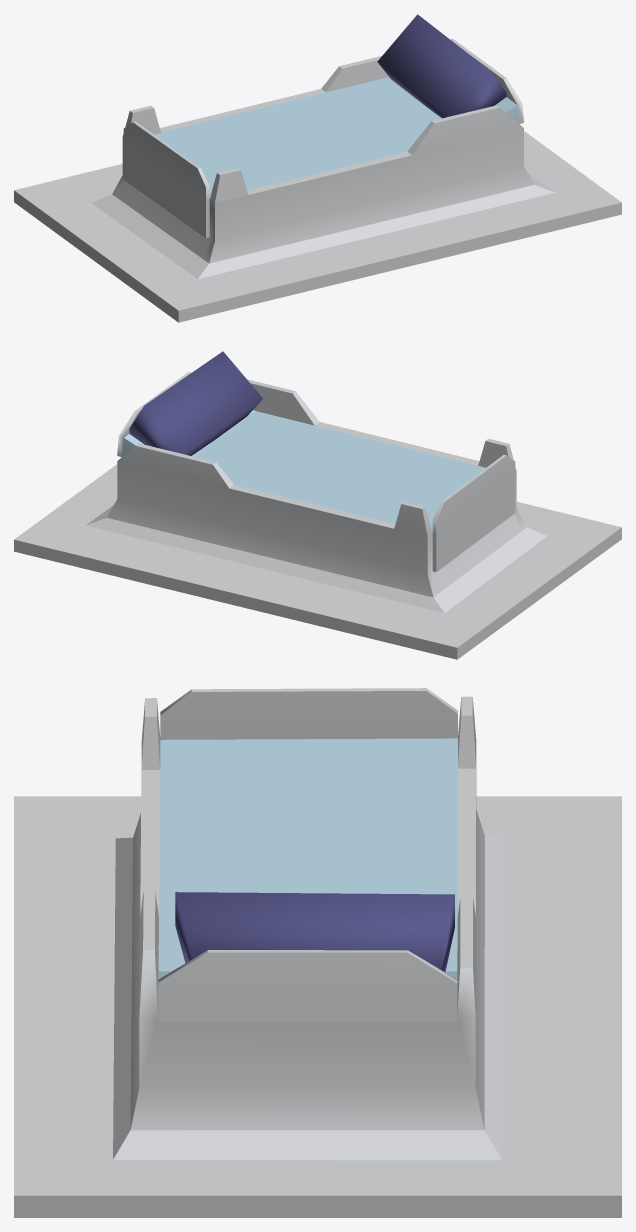
The model's file is hospitalbedprototypecolors.fbx.
3 views of the same model, one above another, from view 1: azimuth 30°, elevation 25°; view 2: azimuth 150°, elevation 25°; view 3: azimuth 270°, elevation 25° (orthographic). The views are drawn at different scales.
Parts seen in each view (by area): view 1: pCube5; view 2: pCube5; view 3: pCube5.
Part boxes in pixels (x1,y1,x2,y2): pCube5: (14,14,621,322); pCube5: (14,351,621,659); pCube5: (14,688,621,1217).
Bounding box in the file's own units: 4.02 × 1.16 × 2.59.
